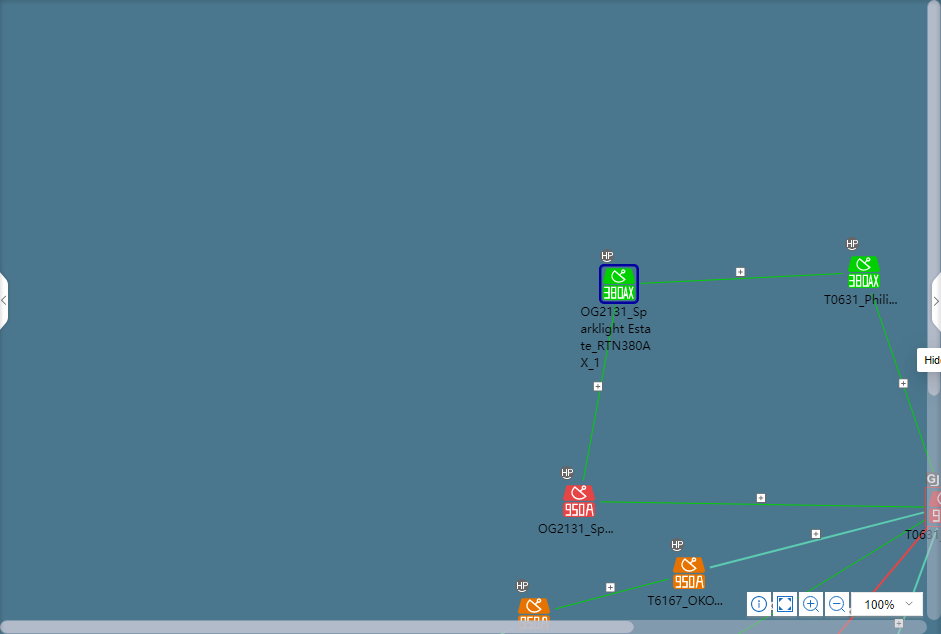Link_Blue: (708, 511, 923, 570), (911, 530, 939, 593)
Link_Green: (867, 292, 935, 473), (804, 519, 923, 592), (581, 306, 617, 482), (552, 577, 669, 613), (599, 500, 924, 511), (639, 271, 845, 285)
Link_Red: (871, 527, 927, 592)
RTN_Green: (600, 266, 636, 302), (848, 256, 879, 288)
RTN_Orange: (673, 558, 704, 590), (518, 600, 549, 622)
RTN_Red: (563, 486, 594, 518), (927, 491, 940, 527)
